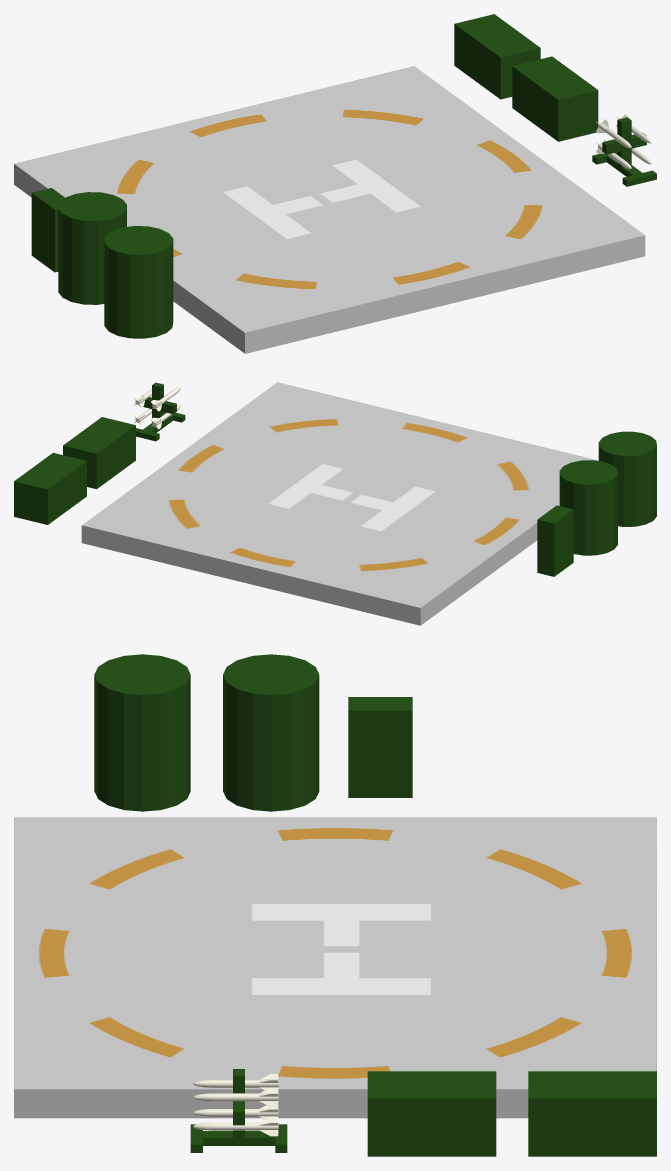
File: landing_port_supply_station.glb
The picture shows the model from 3 angles, top to bottom: view 1: azimuth 30°, elevation 25°; view 2: azimuth 150°, elevation 25°; view 3: azimuth 270°, elevation 25°; orthographic projection. The views are drawn at different scales.
Visible parts, largest first — view 1: base, Zylinder.001, Zylinder, Würfel.001, Würfel.002, Würfel, Cube; view 2: base, Zylinder, Zylinder.001, Würfel.002, Würfel.001, Würfel, Cube; view 3: base, Zylinder, Zylinder.001, Würfel.001, Würfel.002, Würfel, Cube.
Part boxes in pixels (x1,y1,x2,y2): base: [14, 66, 645, 353]; Zylinder.001: [104, 226, 173, 338]; Zylinder: [58, 192, 126, 304]; Würfel.001: [512, 56, 598, 141]; Würfel.002: [454, 14, 540, 99]; Würfel: [31, 188, 64, 272]; Cube: [592, 117, 656, 186]; base: [81, 382, 598, 625]; Zylinder: [559, 460, 617, 555]; Zylinder.001: [598, 431, 656, 526]; Würfel.002: [14, 452, 86, 524]; Würfel.001: [63, 417, 135, 489]; Würfel: [537, 505, 573, 576]; Cube: [136, 382, 185, 441]; base: [14, 817, 656, 1118]; Zylinder: [223, 654, 319, 811]; Zylinder.001: [94, 654, 190, 811]; Würfel.001: [367, 1071, 496, 1156]; Würfel.002: [528, 1071, 656, 1156]; Würfel: [348, 697, 412, 797]; Cube: [190, 1069, 287, 1152].
Size of the model in its own units: 1.43 by 0.225 by 1.
4 materials, 1 textured.
